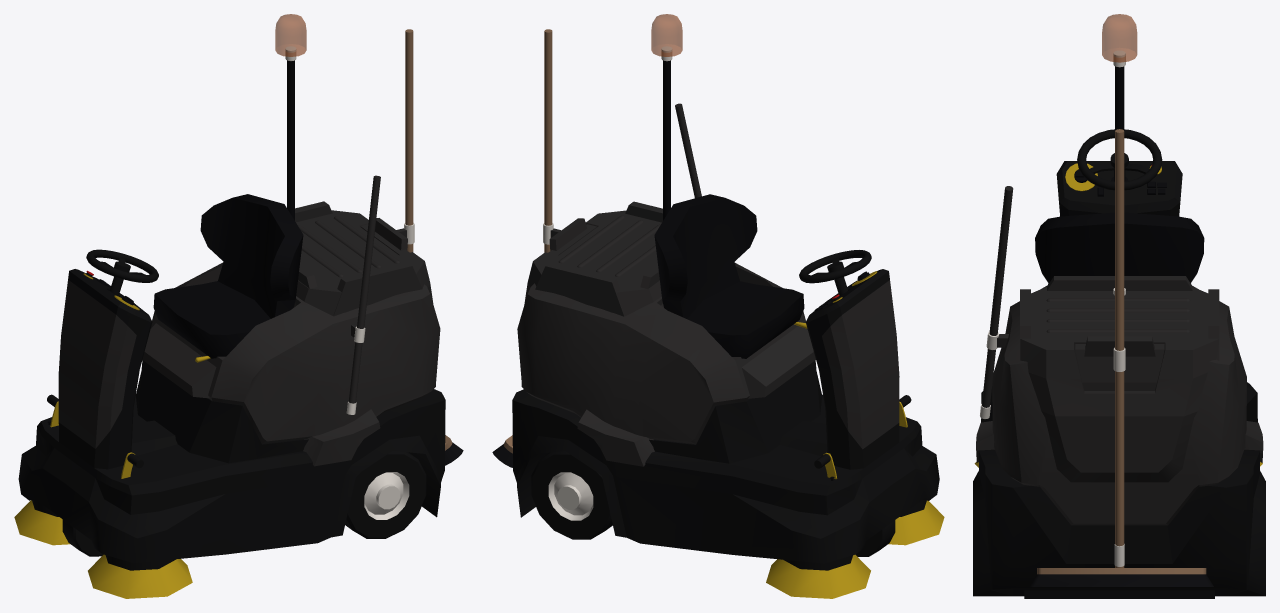
Rendered from cleaner.fbx.
3 views of the same model, side by side, from view 1: azimuth 30°, elevation 25°; view 2: azimuth 150°, elevation 25°; view 3: azimuth 270°, elevation 25° (orthographic). The views are drawn at different scales.
Visible parts, largest first — view 1: Line041, Object046, Object045, Plane012, Object047, Circle005, Plane013, Box158, Cylinder224, Box157, Box159, Box165 (+6 smaller); view 2: Line041, Object046, Object045, Plane012, Object047, Circle005, Plane013, Box158, Cylinder224, Box159, Box157, Box165 (+7 smaller); view 3: Line041, Box158, Object046, Plane012, Object045, Cylinder220, Box162, Cylinder222, Box160, Cylinder217, Torus003, Box164 (+11 smaller).
Boxes of the visible parts, x1=… form: Line041: x1=18, y1=389, x2=445, y2=563; Object046: x1=150, y1=262, x2=440, y2=443; Object045: x1=58, y1=269, x2=152, y2=469; Plane012: x1=200, y1=194, x2=303, y2=318; Object047: x1=136, y1=360, x2=308, y2=463; Circle005: x1=62, y1=451, x2=426, y2=556; Plane013: x1=153, y1=281, x2=270, y2=358; Box158: x1=294, y1=210, x2=433, y2=316; Cylinder224: x1=14, y1=500, x2=192, y2=598; Box157: x1=142, y1=323, x2=216, y2=398; Box159: x1=295, y1=201, x2=422, y2=315; Box165: x1=303, y1=409, x2=380, y2=466; Line041: x1=512, y1=389, x2=939, y2=563; Object046: x1=517, y1=263, x2=807, y2=444; Object045: x1=805, y1=269, x2=899, y2=469; Plane012: x1=654, y1=194, x2=757, y2=318; Object047: x1=649, y1=360, x2=822, y2=463; Circle005: x1=531, y1=451, x2=895, y2=556; Plane013: x1=687, y1=281, x2=804, y2=358; Box158: x1=524, y1=210, x2=663, y2=316; Cylinder224: x1=766, y1=500, x2=944, y2=598; Box159: x1=535, y1=201, x2=662, y2=315; Box157: x1=741, y1=326, x2=815, y2=398; Box165: x1=577, y1=409, x2=654, y2=466; Line041: x1=973, y1=382, x2=1265, y2=596; Box158: x1=1020, y1=287, x2=1218, y2=482; Object046: x1=992, y1=285, x2=1246, y2=525; Plane012: x1=1035, y1=212, x2=1204, y2=283; Object045: x1=1056, y1=161, x2=1182, y2=216; Cylinder220: x1=1115, y1=129, x2=1124, y2=567; Box162: x1=1075, y1=344, x2=1164, y2=390; Cylinder222: x1=1029, y1=574, x2=1213, y2=586; Box160: x1=1047, y1=276, x2=1192, y2=290; Cylinder217: x1=982, y1=186, x2=1013, y2=407; Torus003: x1=1077, y1=129, x2=1162, y2=190; Box164: x1=1024, y1=590, x2=1214, y2=598.
Size of the model in its own units: 1900 by 2395 by 1155.
